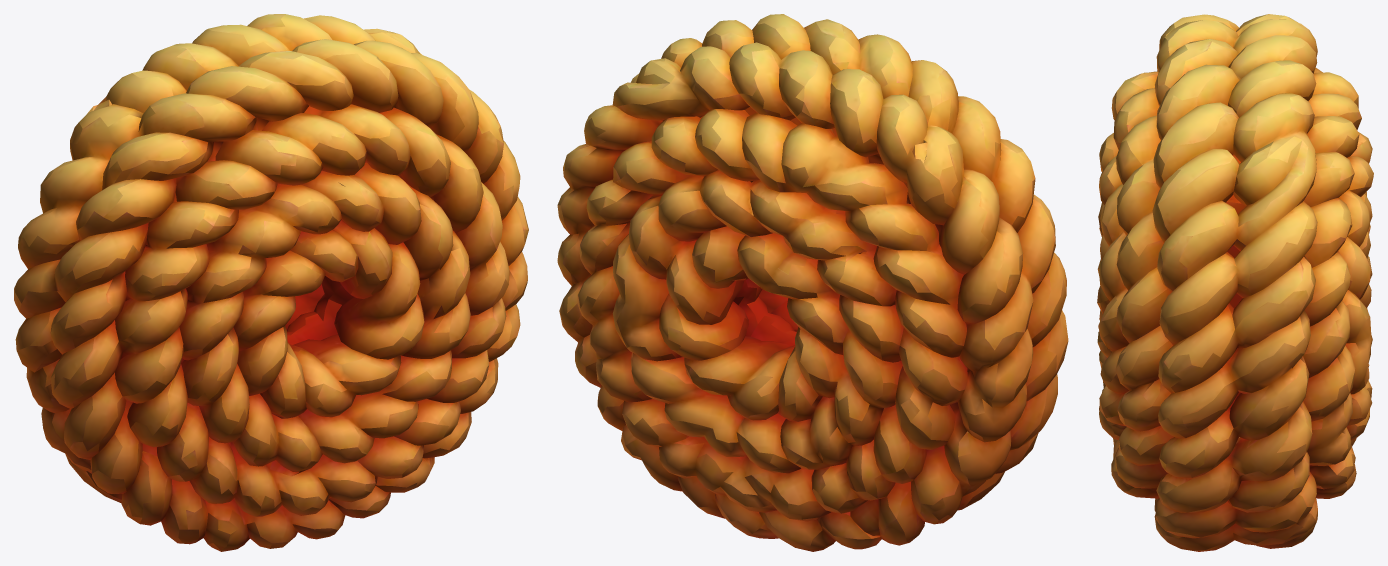
Rendered from x-rope.glb.
3 renders of one model, left to right at view 1: azimuth 30°, elevation 25°; view 2: azimuth 150°, elevation 25°; view 3: azimuth 270°, elevation 25°, orthographic.
Parts seen in each view (by area): view 1: geometry_0; view 2: geometry_0; view 3: geometry_0.
Part boxes in pixels (x1,y1,x2,y2): geometry_0: [14, 14, 528, 551]; geometry_0: [557, 14, 1068, 551]; geometry_0: [1097, 14, 1373, 551].
Size of the model in its own units: 0.3 by 0.2993 by 0.1583.
Materials: 1 (1 with a texture image).
